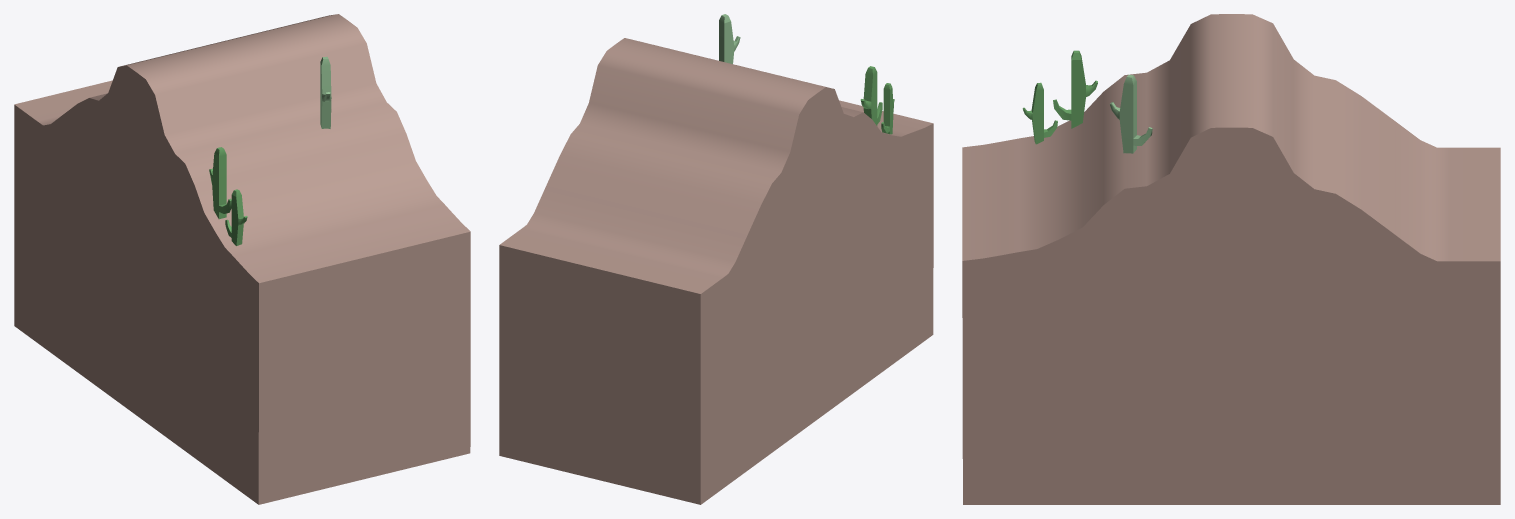
Rendered from New-Land-PLATEAU_MIDDLE.fbx.
The picture shows the model from 3 angles, left to right: view 1: azimuth 30°, elevation 25°; view 2: azimuth 150°, elevation 25°; view 3: azimuth 270°, elevation 25°; orthographic projection. The views are drawn at different scales.
Parts seen in each view (by area): view 1: Land_Modules:Plateau_Middle, pCube21, pCube22, pCube23; view 2: Land_Modules:Plateau_Middle, pCube21, pCube22, pCube23; view 3: Land_Modules:Plateau_Middle, pCube22, pCube21, pCube23.
Part boxes in pixels (left/top/right/bottom): Land_Modules:Plateau_Middle: left=14, top=14, right=470, bottom=504; pCube21: left=209, top=147, right=231, bottom=219; pCube22: left=320, top=56, right=331, bottom=128; pCube23: left=225, top=189, right=247, bottom=245; Land_Modules:Plateau_Middle: left=499, top=38, right=933, bottom=504; pCube21: left=860, top=66, right=882, bottom=125; pCube22: left=719, top=14, right=740, bottom=63; pCube23: left=881, top=83, right=894, bottom=134; Land_Modules:Plateau_Middle: left=962, top=14, right=1500, bottom=504; pCube22: left=1109, top=74, right=1152, bottom=153; pCube21: left=1053, top=50, right=1097, bottom=128; pCube23: left=1022, top=82, right=1057, bottom=144.
Bounding box in the file's own units: 1000 × 1608 × 2002.
